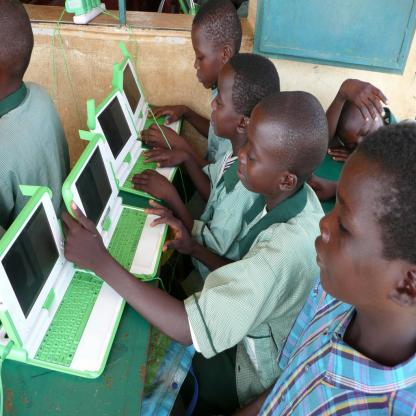board: (0, 182, 127, 376), (63, 132, 169, 280), (87, 89, 179, 201), (114, 42, 183, 139)
